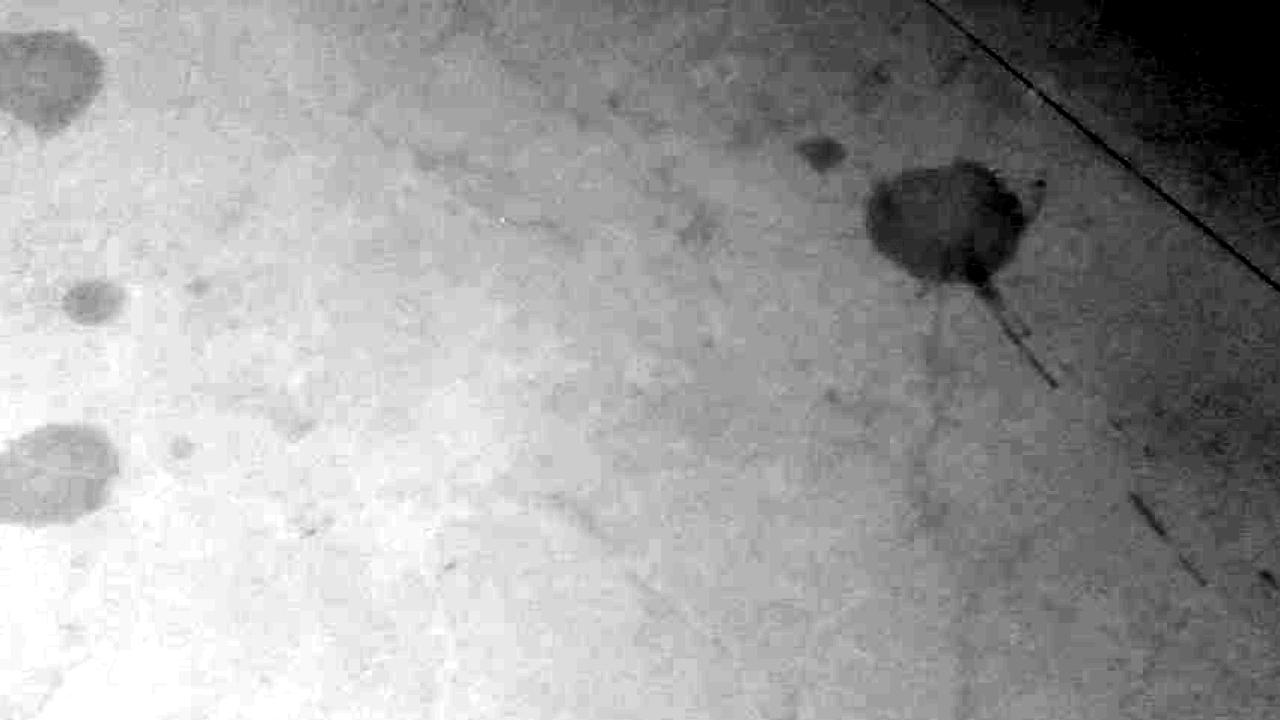drinks Stains: (804, 113, 1053, 310), (0, 412, 130, 536), (0, 25, 93, 122), (44, 276, 135, 346)
